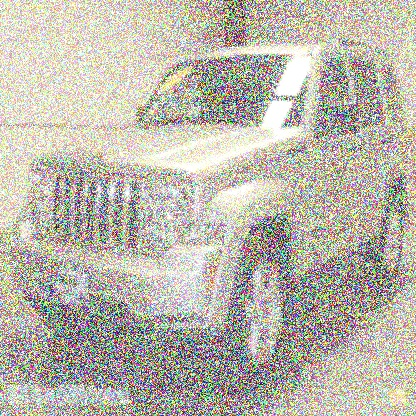Vehicle: (6, 35, 412, 397)
